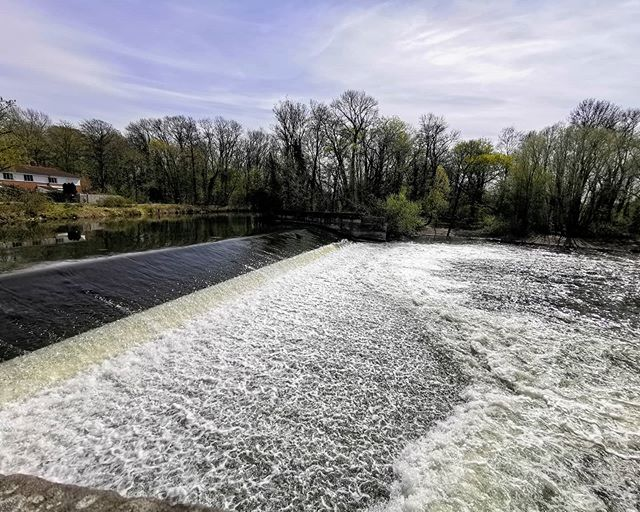river: (1, 247, 631, 512)
sky: (23, 1, 640, 109)
vegetation: (9, 111, 640, 238)
